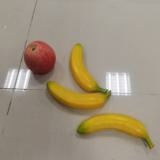apple: (24, 41, 56, 73)
